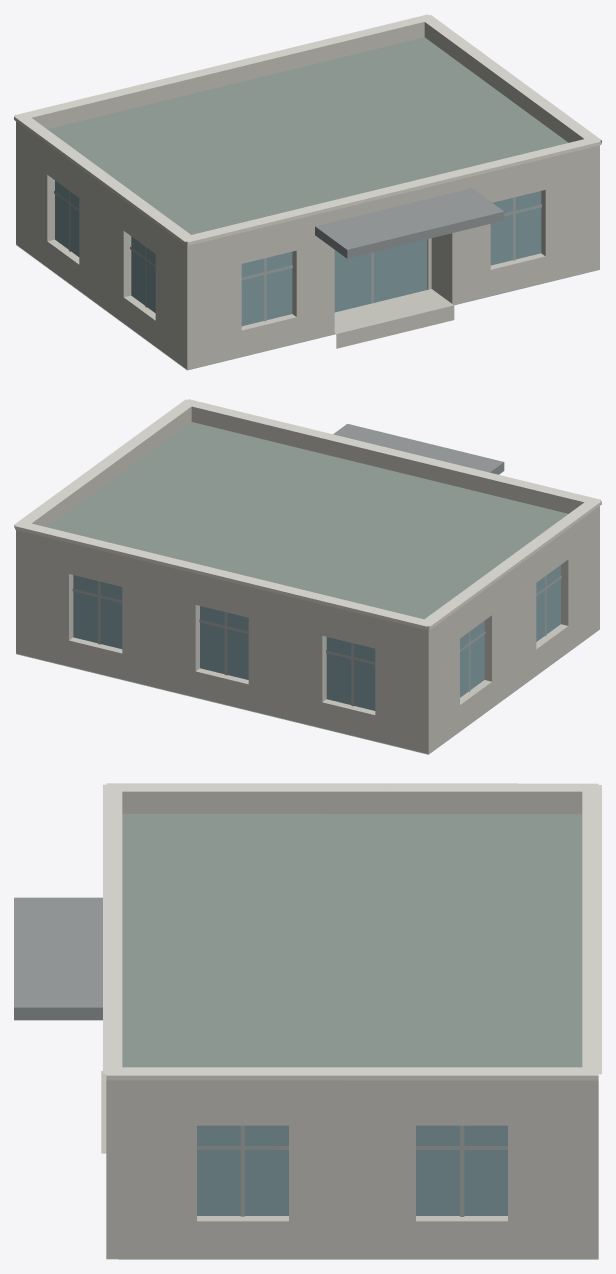
3 renders of one model, top to bottom at view 1: azimuth 30°, elevation 25°; view 2: azimuth 150°, elevation 25°; view 3: azimuth 270°, elevation 25°, orthographic. The views are drawn at different scales.
Visible parts, largest first — view 1: aux-471315226__roof, aux-471315226__wall, aux-471315226__parapet, aux-471315226__glass, aux-471315226__trim, aux-471315226__canopy, aux-471315226__entranceThreshold_0, aux-471315226__frame; view 2: aux-471315226__wall, aux-471315226__roof, aux-471315226__parapet, aux-471315226__trim, aux-471315226__glass, aux-471315226__canopy, aux-471315226__frame; view 3: aux-471315226__roof, aux-471315226__wall, aux-471315226__trim, aux-471315226__parapet, aux-471315226__glass, aux-471315226__canopy, aux-471315226__frame.
Boxes of the visible parts, box(x1,y1,x2,y2) form: aux-471315226__roof: box(16, 37, 599, 370); aux-471315226__wall: box(16, 131, 599, 369); aux-471315226__parapet: box(16, 22, 599, 256); aux-471315226__glass: box(55, 180, 541, 326); aux-471315226__trim: box(14, 14, 601, 245); aux-471315226__canopy: box(315, 188, 504, 258); aux-471315226__entranceThreshold_0: box(334, 289, 454, 348); aux-471315226__frame: box(54, 191, 541, 321); aux-471315226__wall: box(16, 516, 599, 753); aux-471315226__roof: box(16, 422, 599, 754); aux-471315226__parapet: box(16, 406, 599, 641); aux-471315226__trim: box(14, 399, 601, 629); aux-471315226__glass: box(73, 565, 560, 710); aux-471315226__canopy: box(333, 424, 504, 474); aux-471315226__frame: box(72, 575, 561, 706); aux-471315226__roof: box(106, 813, 598, 1259); aux-471315226__wall: box(106, 1096, 598, 1258); aux-471315226__trim: box(103, 783, 601, 1080); aux-471315226__parapet: box(106, 791, 598, 1096); aux-471315226__glass: box(197, 1125, 507, 1215); aux-471315226__canopy: box(14, 897, 102, 1020); aux-471315226__frame: box(197, 1125, 507, 1216).
Bounding box in the file's own units: 12.75 × 4.15 × 10.84.
